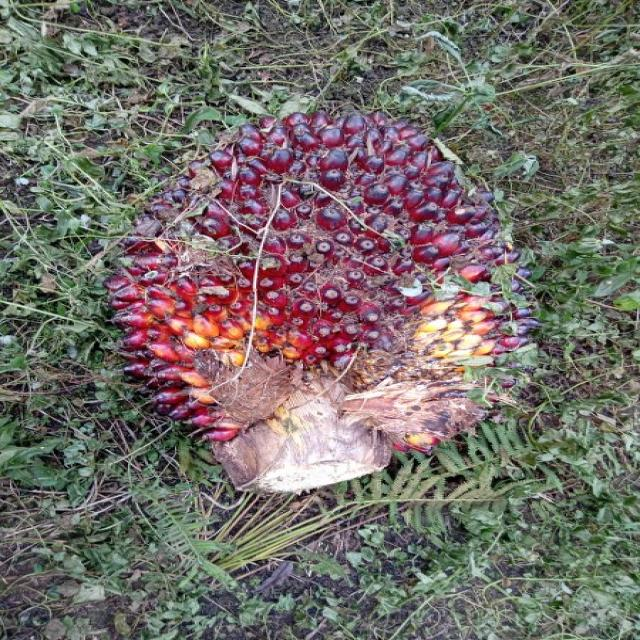fraksi 1: (115, 120, 525, 462)
